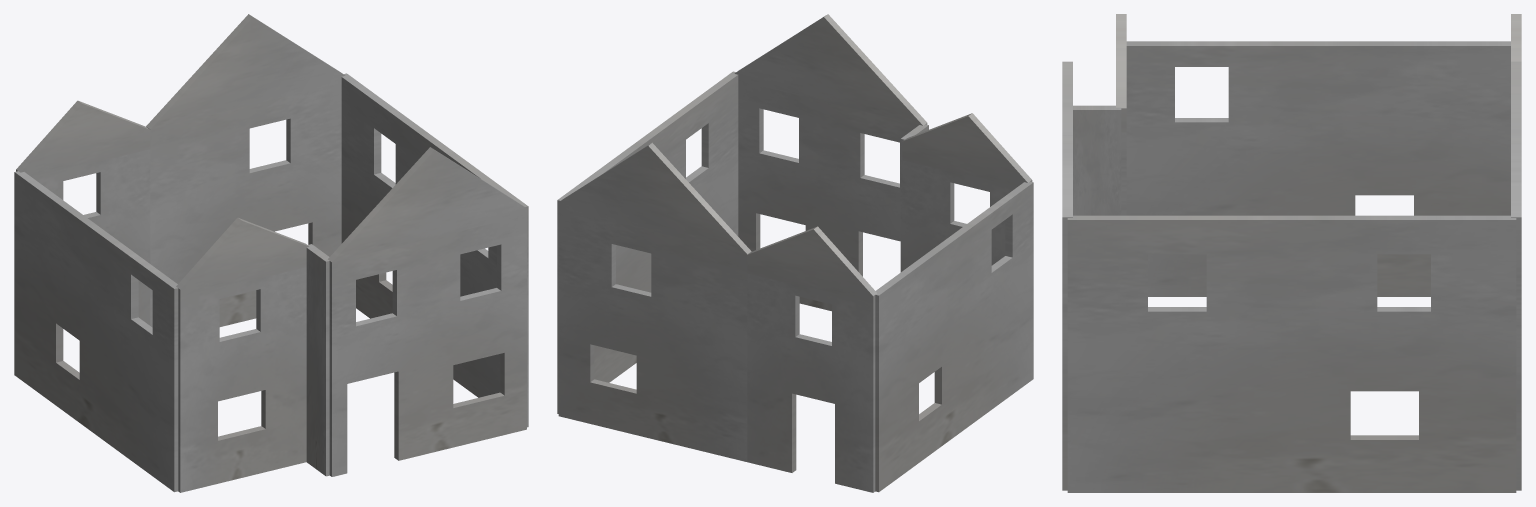
File: BW_Inn01_Plaster.fbx
The picture shows the model from 3 angles, left to right: view 1: azimuth 30°, elevation 25°; view 2: azimuth 150°, elevation 25°; view 3: azimuth 270°, elevation 25°; orthographic projection. The views are drawn at different scales.
Visible parts, largest first — view 1: BW_Inn01_Plaster; view 2: BW_Inn01_Plaster; view 3: BW_Inn01_Plaster.
Part boxes in pixels (left/top/right/bottom): BW_Inn01_Plaster: left=14, top=14, right=528, bottom=492; BW_Inn01_Plaster: left=557, top=14, right=1033, bottom=492; BW_Inn01_Plaster: left=1062, top=14, right=1521, bottom=492.
Size of the model in its own units: 9.72 by 8.44 by 9.42.
